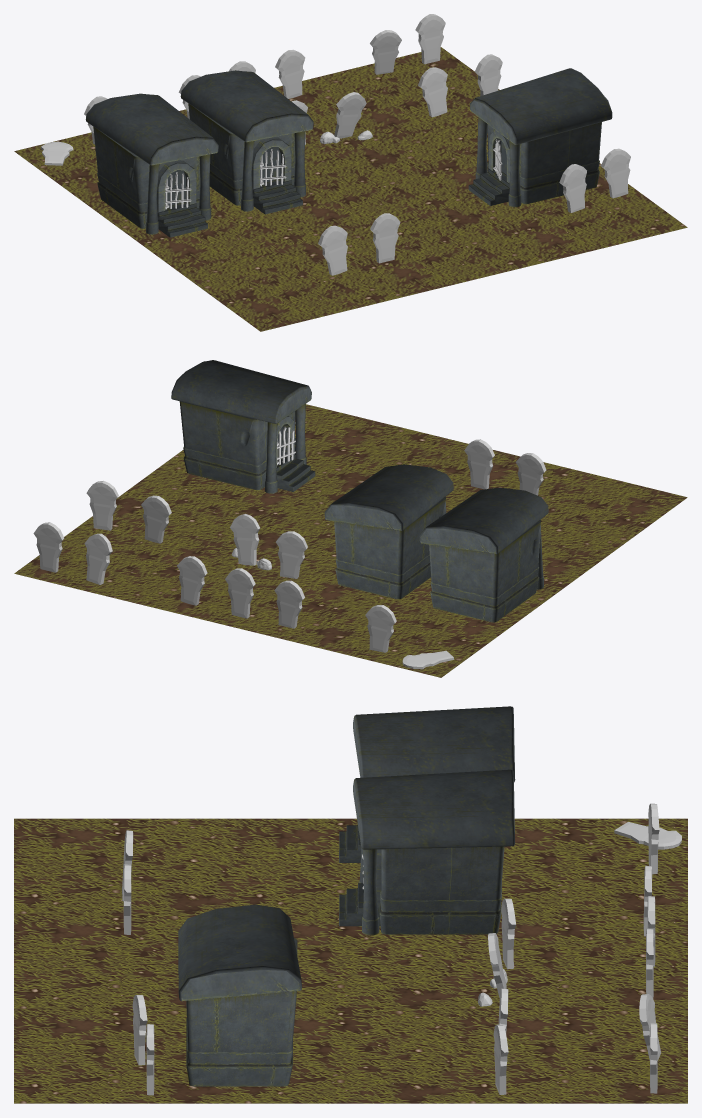
File: Edge_Diorama_6.fbx
3 views of the same model, one above another, from view 1: azimuth 30°, elevation 25°; view 2: azimuth 150°, elevation 25°; view 3: azimuth 270°, elevation 25° (orthographic). The views are drawn at different scales.
Parts seen in each view (by area): view 1: Floor030; view 2: Floor030; view 3: Floor030.
Boxes of the visible parts, <box> form: Floor030: <box>14,14,687,331</box>; Floor030: <box>14,360,687,677</box>; Floor030: <box>14,706,687,1103</box>.
Size of the model in its own units: 450 by 95.99 by 450.
